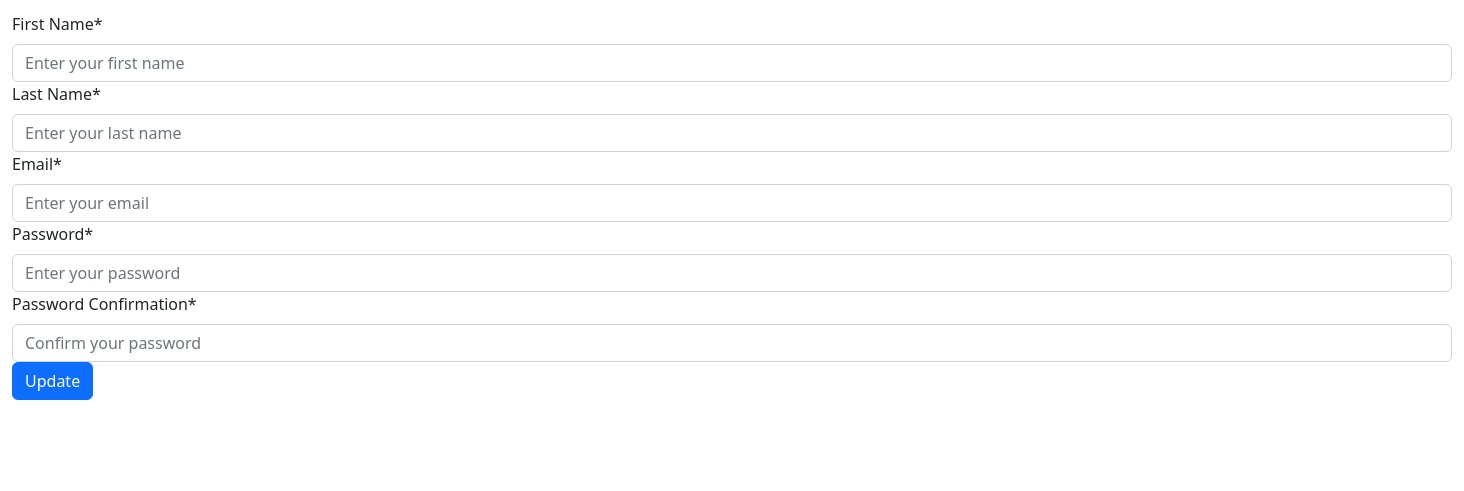
The User Profile Component › displays an error message if last name blank
Type "Adam" into the field labelled "First Name*" at (732, 63), box left=12, top=44, right=1452, bottom=82
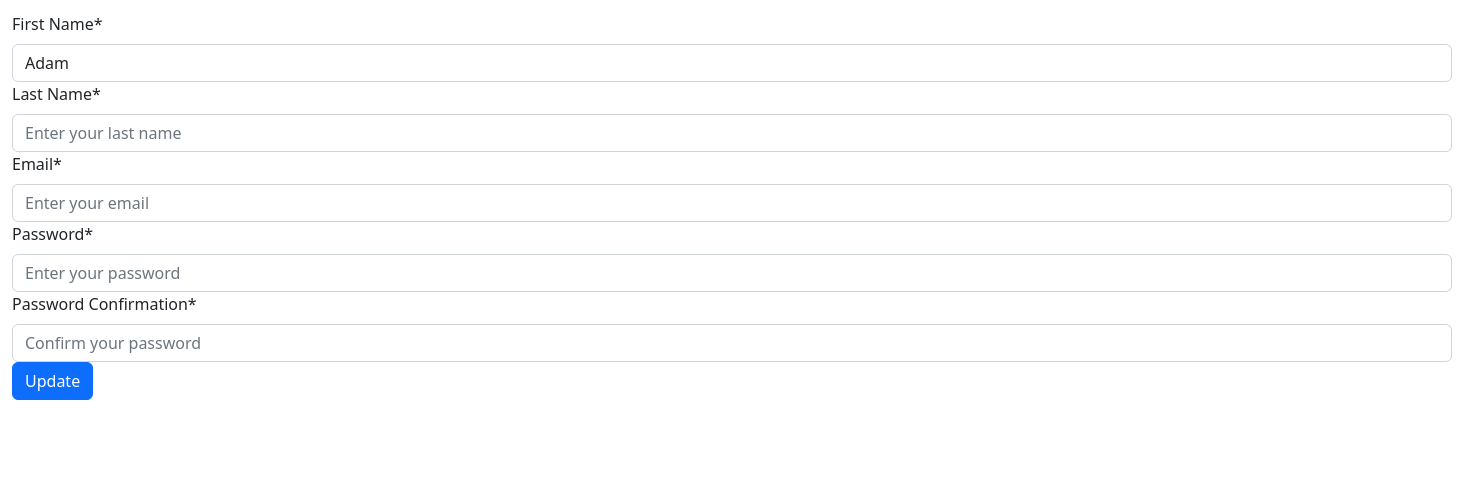
Click the button "Update" at (53, 381), box left=12, top=362, right=93, bottom=400
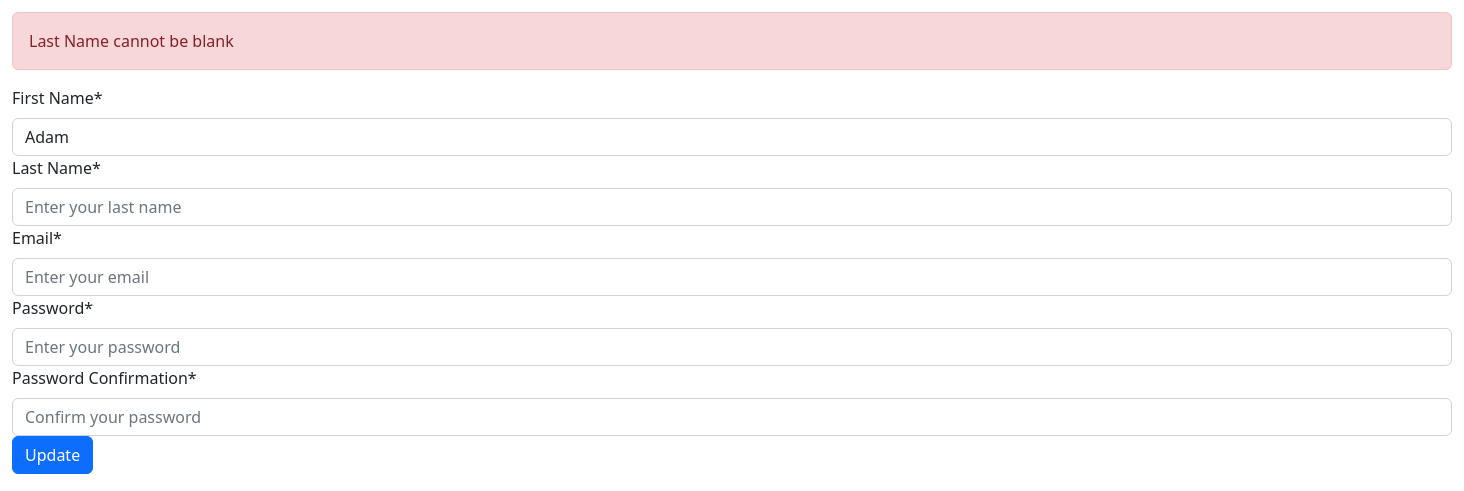
Now the text "Last Name cannot be blank" is shown, box left=12, top=12, right=1452, bottom=70
